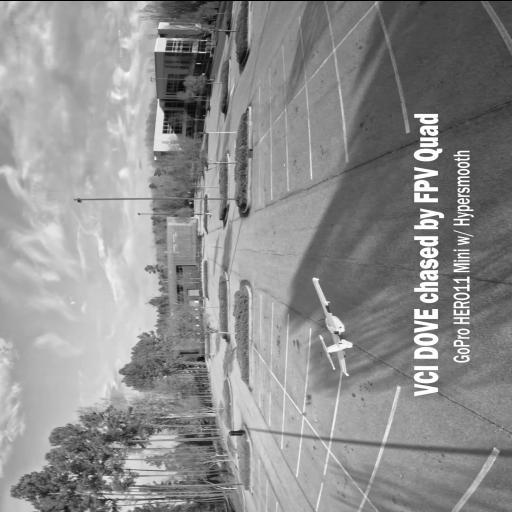uav: (308, 274, 358, 376)
